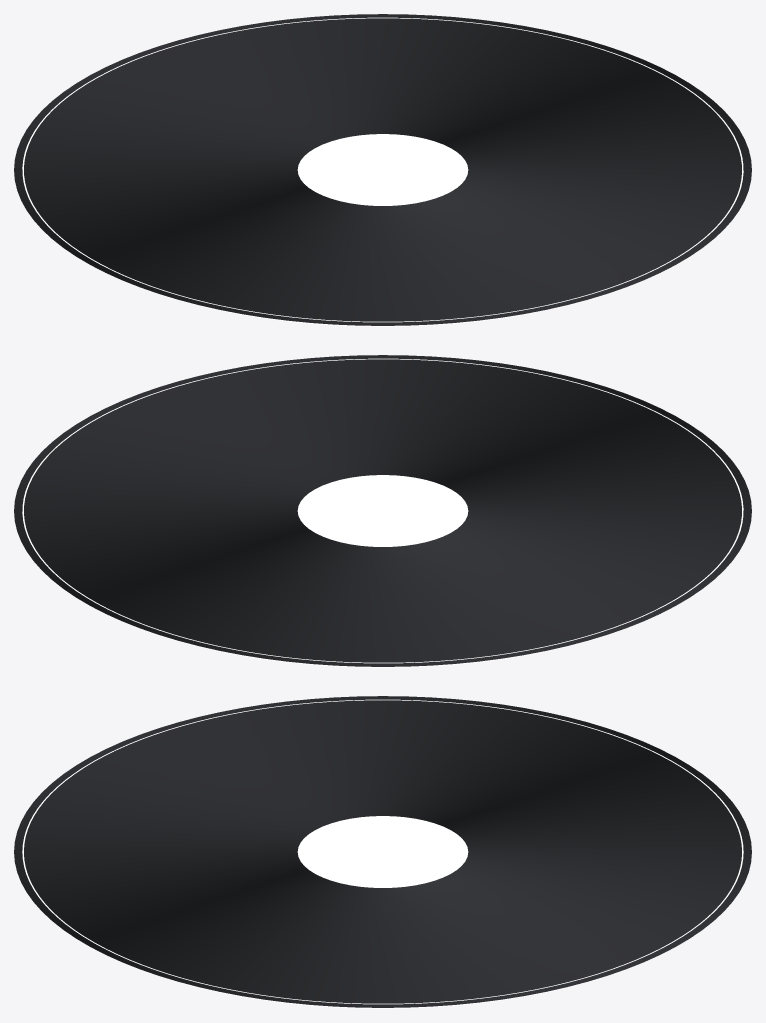
Rendered from ufo_belly_pink.glb.
3 renders of one model, top to bottom at view 1: azimuth 30°, elevation 25°; view 2: azimuth 150°, elevation 25°; view 3: azimuth 270°, elevation 25°, orthographic.
Visible parts, largest first — view 1: ufo_belly_pink; view 2: ufo_belly_pink; view 3: ufo_belly_pink.
Part boxes in pixels (x1=…): ufo_belly_pink: x1=14, y1=14, x2=751, y2=326; ufo_belly_pink: x1=14, y1=355, x2=751, y2=667; ufo_belly_pink: x1=14, y1=696, x2=751, y2=1008.
Bounding box in the file's own units: 242 × 7.56 × 242.
